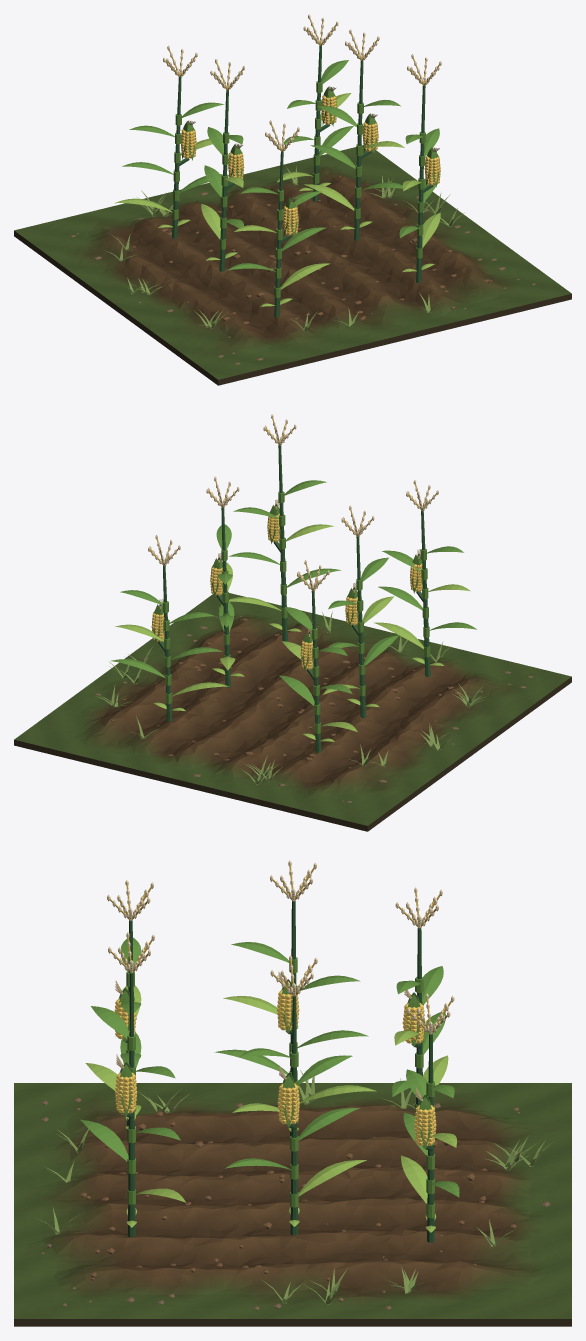
Rendered from corn-field.glb.
3 views of the same model, one above another, from view 1: azimuth 30°, elevation 25°; view 2: azimuth 150°, elevation 25°; view 3: azimuth 270°, elevation 25° (orthographic). The views are drawn at different scales.
Parts seen in each view (by area): view 1: Static_mesh, JointedCornStalk.001_mesh, JointedCornStalk.002_mesh, JointedCornStalk.003_mesh, JointedCornStalk_mesh, JointedCornStalk.004_mesh; view 2: Static_mesh, JointedCornStalk.001_mesh, JointedCornStalk.002_mesh, JointedCornStalk.003_mesh; view 3: Static_mesh, JointedCornStalk.001_mesh, JointedCornStalk.003_mesh, CornLeaf.007_mesh, CornLeaf.030_mesh, CornLeaf.018_mesh, CornEar.001_mesh, CornEar.003_mesh, CornEar.005_mesh, CornLeaf.020_mesh, JointedCornStalk.005_mesh, CornLeaf.011_mesh (+2 smaller).
Part boxes in pixels (x1=…): Static_mesh: x1=14, y1=145, x2=571, y2=385; JointedCornStalk.001_mesh: x1=416, y1=85, x2=425, y2=283; JointedCornStalk.002_mesh: x1=219, y1=90, x2=228, y2=271; JointedCornStalk.003_mesh: x1=354, y1=60, x2=363, y2=240; JointedCornStalk_mesh: x1=274, y1=151, x2=283, y2=317; JointedCornStalk.004_mesh: x1=172, y1=77, x2=181, y2=238; Static_mesh: x1=14, y1=593, x2=571, y2=831; JointedCornStalk.001_mesh: x1=278, y1=445, x2=287, y2=641; JointedCornStalk.002_mesh: x1=356, y1=536, x2=365, y2=718; JointedCornStalk.003_mesh: x1=221, y1=507, x2=230, y2=687; Static_mesh: x1=14, y1=1083, x2=571, y2=1326; JointedCornStalk.001_mesh: x1=128, y1=972, x2=135, y2=1236; JointedCornStalk.003_mesh: x1=290, y1=996, x2=298, y2=1234; CornLeaf.007_mesh: x1=80, y1=1119, x2=135, y2=1173; CornLeaf.030_mesh: x1=401, y1=1155, x2=434, y2=1218; CornLeaf.018_mesh: x1=290, y1=1160, x2=366, y2=1207; CornEar.001_mesh: x1=115, y1=1072, x2=137, y2=1113; CornEar.003_mesh: x1=277, y1=1083, x2=299, y2=1124; CornEar.005_mesh: x1=414, y1=1105, x2=436, y2=1146; CornLeaf.020_mesh: x1=290, y1=1107, x2=359, y2=1151; JointedCornStalk.005_mesh: x1=427, y1=1034, x2=434, y2=1242; CornLeaf.011_mesh: x1=91, y1=1006, x2=135, y2=1050.
Bounding box in the file's own units: 3.5 × 2.22 × 3.5.
